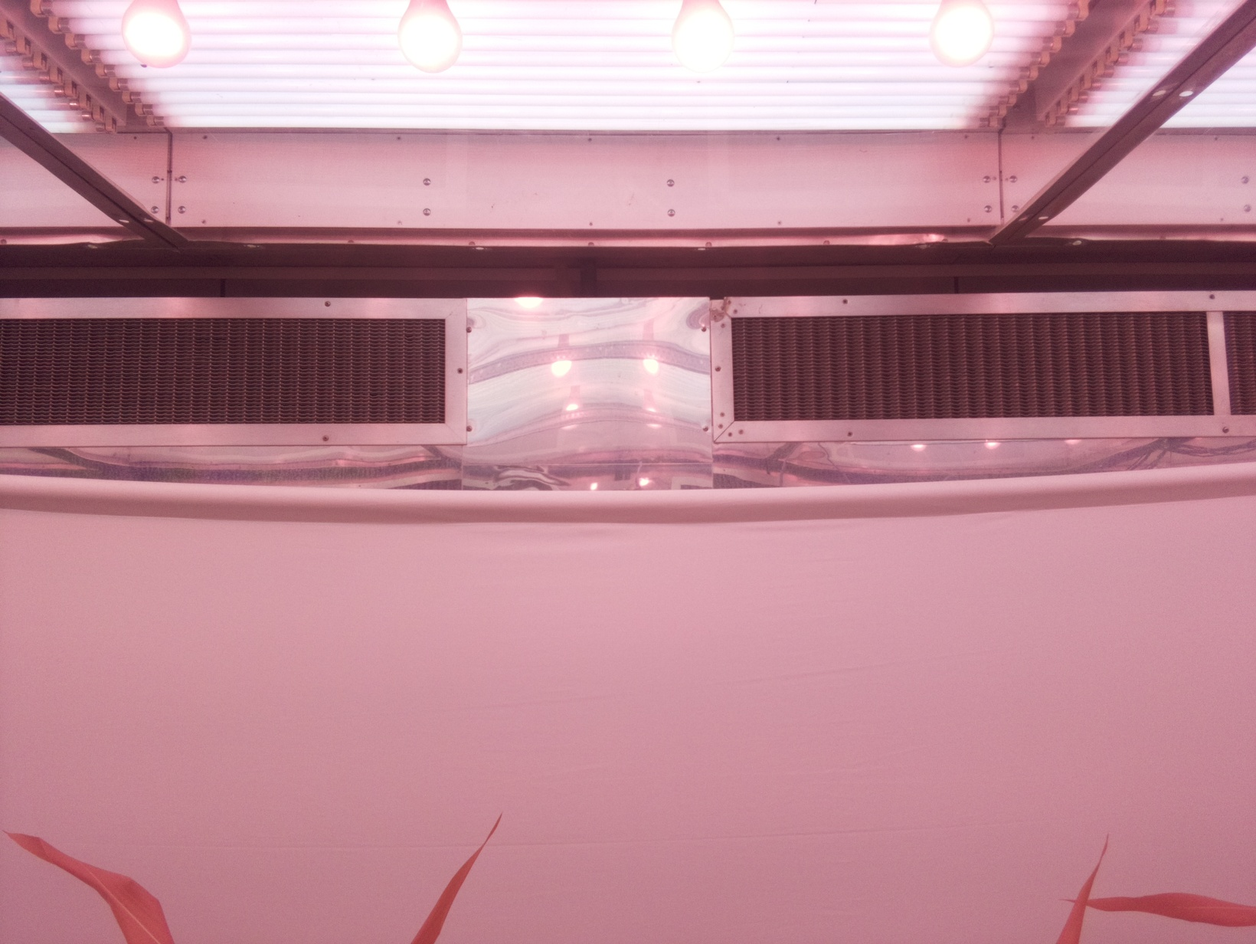maize: (3, 811, 504, 944), (1054, 831, 1256, 944)
